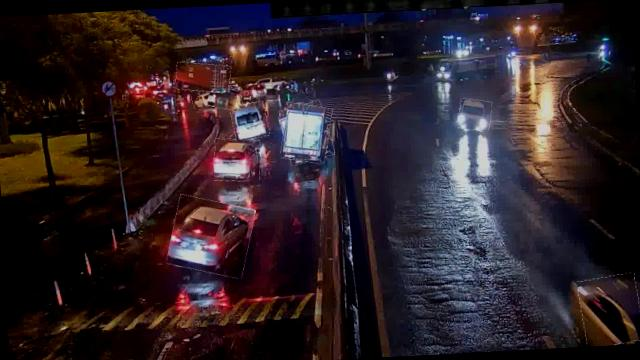Bus: (279, 101, 332, 164), (230, 102, 268, 141), (207, 82, 240, 110), (190, 86, 219, 108)
Car: (167, 194, 256, 278), (577, 272, 640, 345), (212, 137, 262, 182), (456, 96, 492, 132)
Truck: (280, 102, 332, 164), (174, 60, 230, 93)
